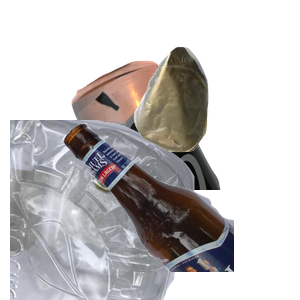glass: (60, 120, 300, 300)
metal: (69, 58, 300, 238)
plastic: (10, 120, 197, 300)
trash: (131, 44, 300, 189)
